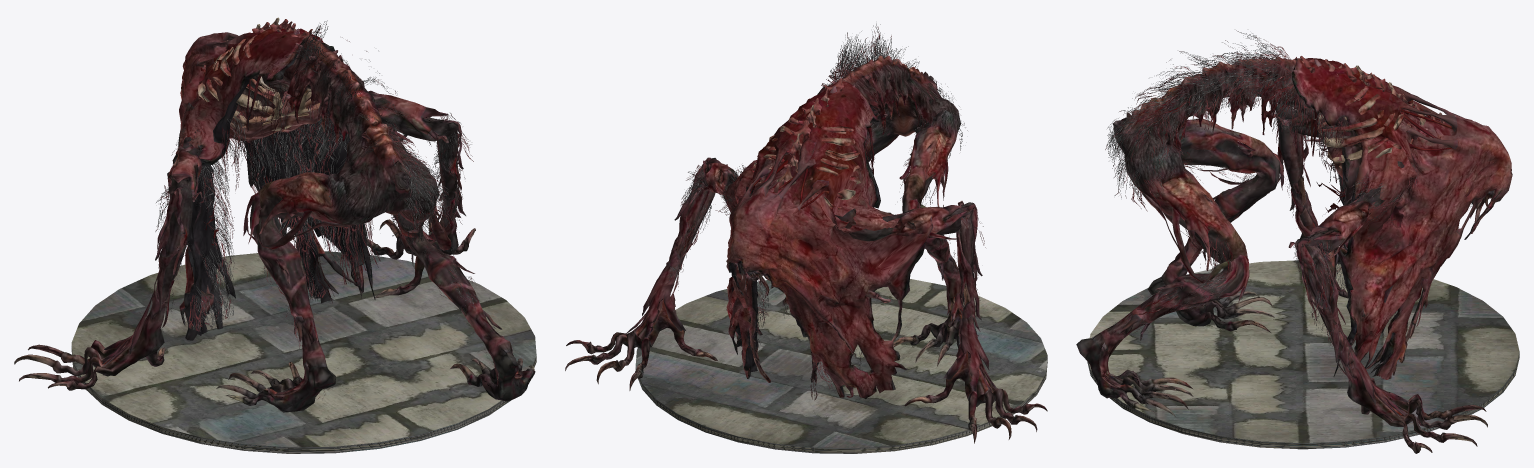
Rendered from blood-starved-beast.glb.
The picture shows the model from 3 angles, left to right: view 1: azimuth 30°, elevation 25°; view 2: azimuth 150°, elevation 25°; view 3: azimuth 270°, elevation 25°; orthographic projection. The views are drawn at different scales.
Parts seen in each view (by area): view 1: 24-Cylinder.obj, 36-m0_Body.003.obj, 11-m2_Body1_cloth.003.obj, 43-m4_Fur1_cloth.003.obj, 10-m5_Fur2_cloth.003.obj, 22-m3_Body2_cloth.003.obj, 42-m1_Fur.003.obj; view 2: 24-Cylinder.obj, 11-m2_Body1_cloth.003.obj, 36-m0_Body.003.obj, 22-m3_Body2_cloth.003.obj, 10-m5_Fur2_cloth.003.obj, 42-m1_Fur.003.obj, 43-m4_Fur1_cloth.003.obj; view 3: 24-Cylinder.obj, 36-m0_Body.003.obj, 11-m2_Body1_cloth.003.obj, 10-m5_Fur2_cloth.003.obj, 22-m3_Body2_cloth.003.obj, 42-m1_Fur.003.obj, 43-m4_Fur1_cloth.003.obj.
Part boxes in pixels (box(x1,y1,x2,y2)): 24-Cylinder.obj: box(71, 251, 536, 453); 36-m0_Body.003.obj: box(14, 17, 535, 412); 11-m2_Body1_cloth.003.obj: box(167, 28, 407, 340); 43-m4_Fur1_cloth.003.obj: box(187, 100, 404, 331); 10-m5_Fur2_cloth.003.obj: box(253, 20, 451, 234); 22-m3_Body2_cloth.003.obj: box(129, 133, 465, 354); 42-m1_Fur.003.obj: box(152, 102, 495, 398); 24-Cylinder.obj: box(635, 279, 1047, 453); 11-m2_Body1_cloth.003.obj: box(723, 79, 933, 398); 36-m0_Body.003.obj: box(565, 55, 1047, 443); 22-m3_Body2_cloth.003.obj: box(642, 159, 989, 370); 10-m5_Fur2_cloth.003.obj: box(821, 23, 967, 171); 42-m1_Fur.003.obj: box(668, 146, 985, 315); 43-m4_Fur1_cloth.003.obj: box(722, 193, 861, 400); 24-Cylinder.obj: box(1087, 260, 1519, 449); 36-m0_Body.003.obj: box(1076, 56, 1494, 453); 11-m2_Body1_cloth.003.obj: box(1291, 58, 1512, 379); 10-m5_Fur2_cloth.003.obj: box(1105, 30, 1347, 211); 22-m3_Body2_cloth.003.obj: box(1155, 135, 1375, 405); 42-m1_Fur.003.obj: box(1113, 113, 1416, 382); 43-m4_Fur1_cloth.003.obj: box(1313, 124, 1472, 365).
Size of the model in its own units: 3.92 by 2.78 by 3.27.
3 materials, 3 textured.
